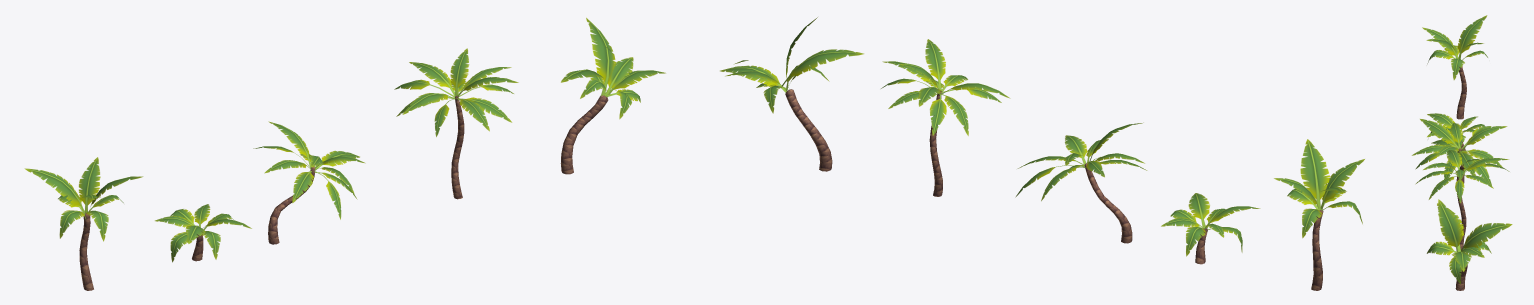
File: palms.glb
3 views of the same model, side by side, from view 1: azimuth 30°, elevation 25°; view 2: azimuth 150°, elevation 25°; view 3: azimuth 270°, elevation 25° (orthographic). The views are drawn at different scales.
Visible parts, largest first — view 1: PalmTree_1, PalmTree_2, PalmTree_3, PalmTree_4, PalmTree_5; view 2: PalmTree_1, PalmTree_3, PalmTree_2, PalmTree_4, PalmTree_5; view 3: PalmTree_2, PalmTree_4, PalmTree_3, PalmTree_1, PalmTree_5.
Boxes of the visible parts, bbox=[...] form: PalmTree_1: bbox=[394, 48, 518, 199]; PalmTree_2: bbox=[560, 17, 665, 174]; PalmTree_3: bbox=[24, 157, 143, 290]; PalmTree_4: bbox=[253, 121, 365, 244]; PalmTree_5: bbox=[154, 204, 251, 262]; PalmTree_1: bbox=[881, 39, 1010, 196]; PalmTree_3: bbox=[1274, 139, 1364, 290]; PalmTree_2: bbox=[720, 17, 863, 171]; PalmTree_4: bbox=[1015, 122, 1147, 243]; PalmTree_5: bbox=[1161, 193, 1260, 264]; PalmTree_2: bbox=[1426, 199, 1512, 290]; PalmTree_4: bbox=[1412, 119, 1507, 185]; PalmTree_3: bbox=[1422, 15, 1487, 119]; PalmTree_1: bbox=[1415, 150, 1509, 249]; PalmTree_5: bbox=[1427, 113, 1485, 152].
Bounding box in the file's own units: 25.91 × 5.28 × 5.24.
Materials: 2 (2 with a texture image).
